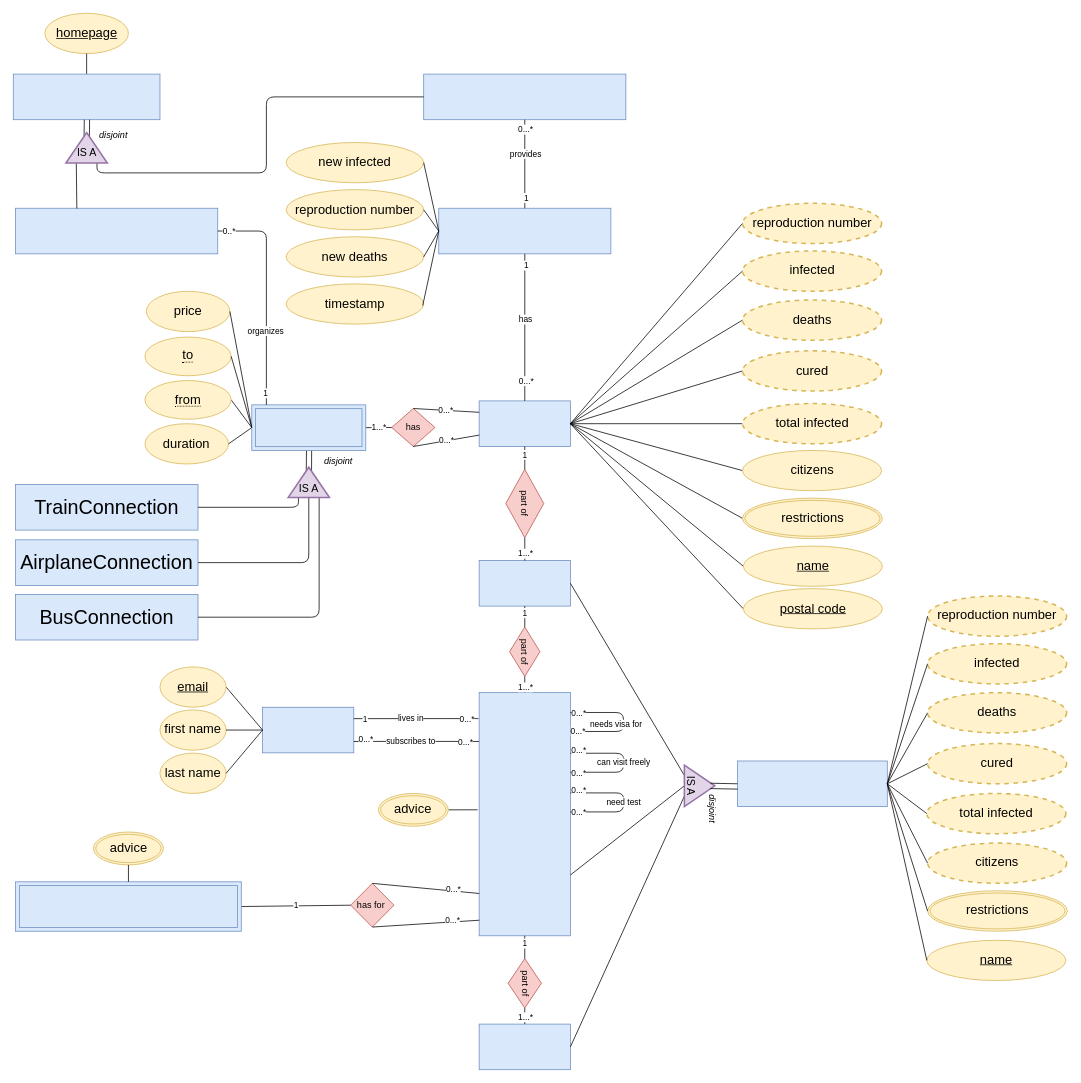
Image size: 1081x1083. Some labels were removed from this diagram. The shapes that lost their labels are listed below. From the top down, each one's box as (x1, y1, x2, y2) in pixels, then its label:
(13, 73, 160, 120): Organization
(423, 73, 626, 120): DataOrganization
(15, 207, 218, 254): TravellingOrganization
(438, 207, 611, 254): PandemicReading
(251, 404, 366, 450): Connection
(478, 400, 570, 446): City
(478, 560, 570, 606): Region
(262, 706, 354, 753): User
(737, 760, 887, 807): DerivablePlace
(478, 692, 570, 936): Country
(15, 881, 241, 931): SpecificTravellingAdvice
(478, 1023, 570, 1070): Continent
